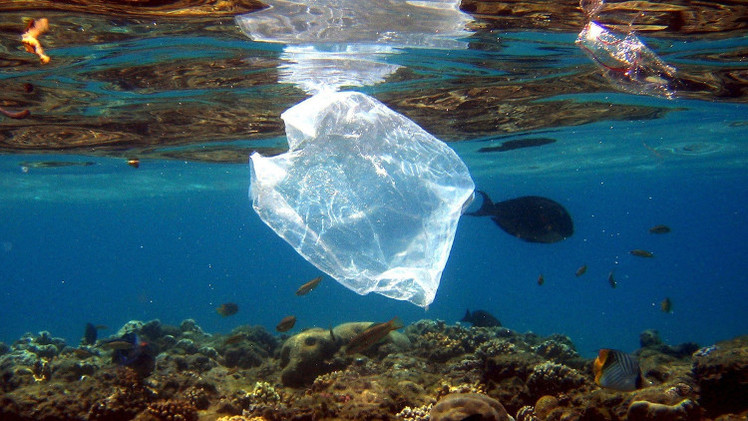plastic bag: (245, 87, 473, 311), (572, 20, 677, 103)
